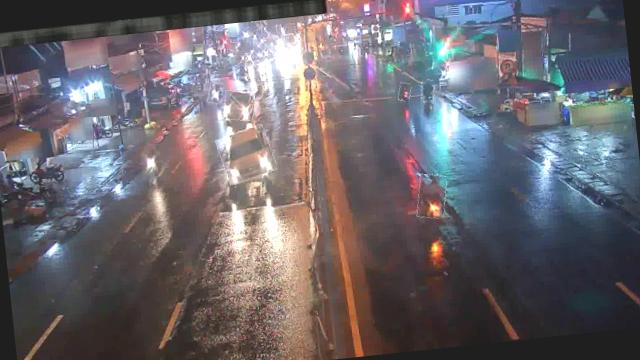Bike: (416, 173, 450, 220), (208, 82, 225, 105), (421, 80, 436, 102), (398, 82, 412, 101)
Car: (217, 126, 276, 183), (222, 89, 256, 123)
